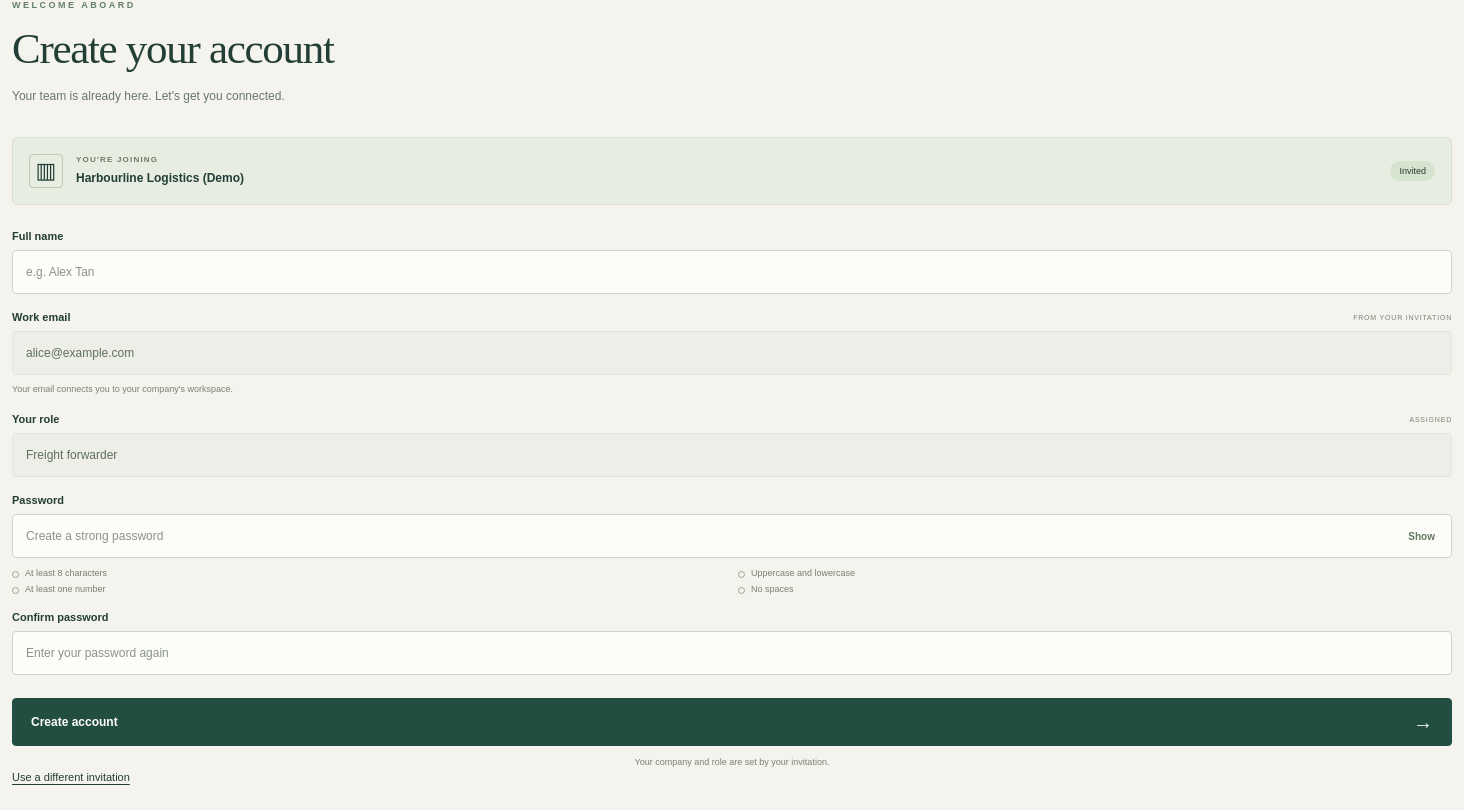
Test: signup form › shows duplicate-account errors without pretending registration succeeded
This screenshot has width=1464, height=810.
In the field labelled "Full name": (732, 272) x1=12 y1=250 x2=1452 y2=294, type "Alice"
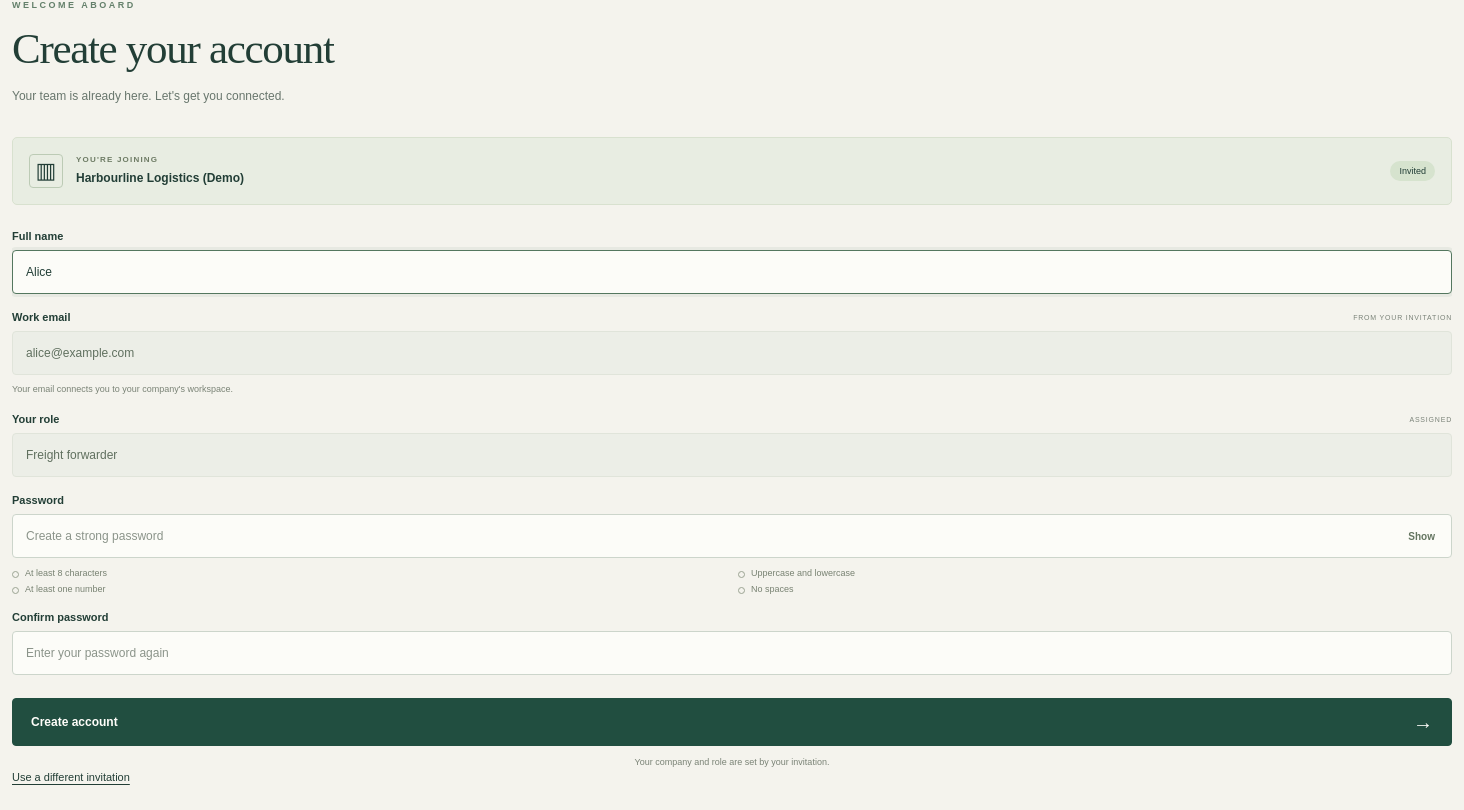
In the password field labelled "Password": (732, 536) x1=12 y1=514 x2=1452 y2=558, type "Example123"
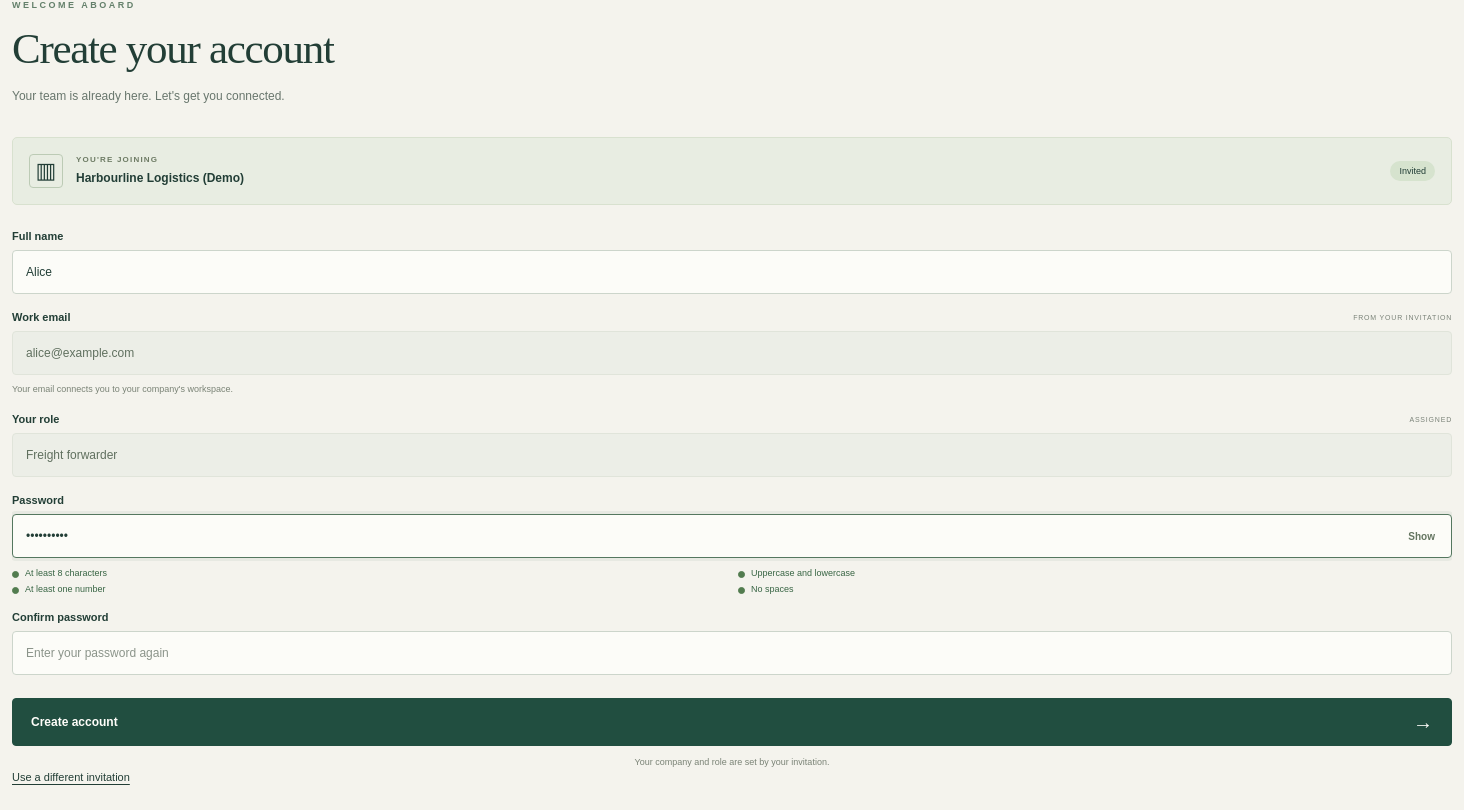
In the password field labelled "Confirm password": (732, 653) x1=12 y1=631 x2=1452 y2=675, type "Example123"
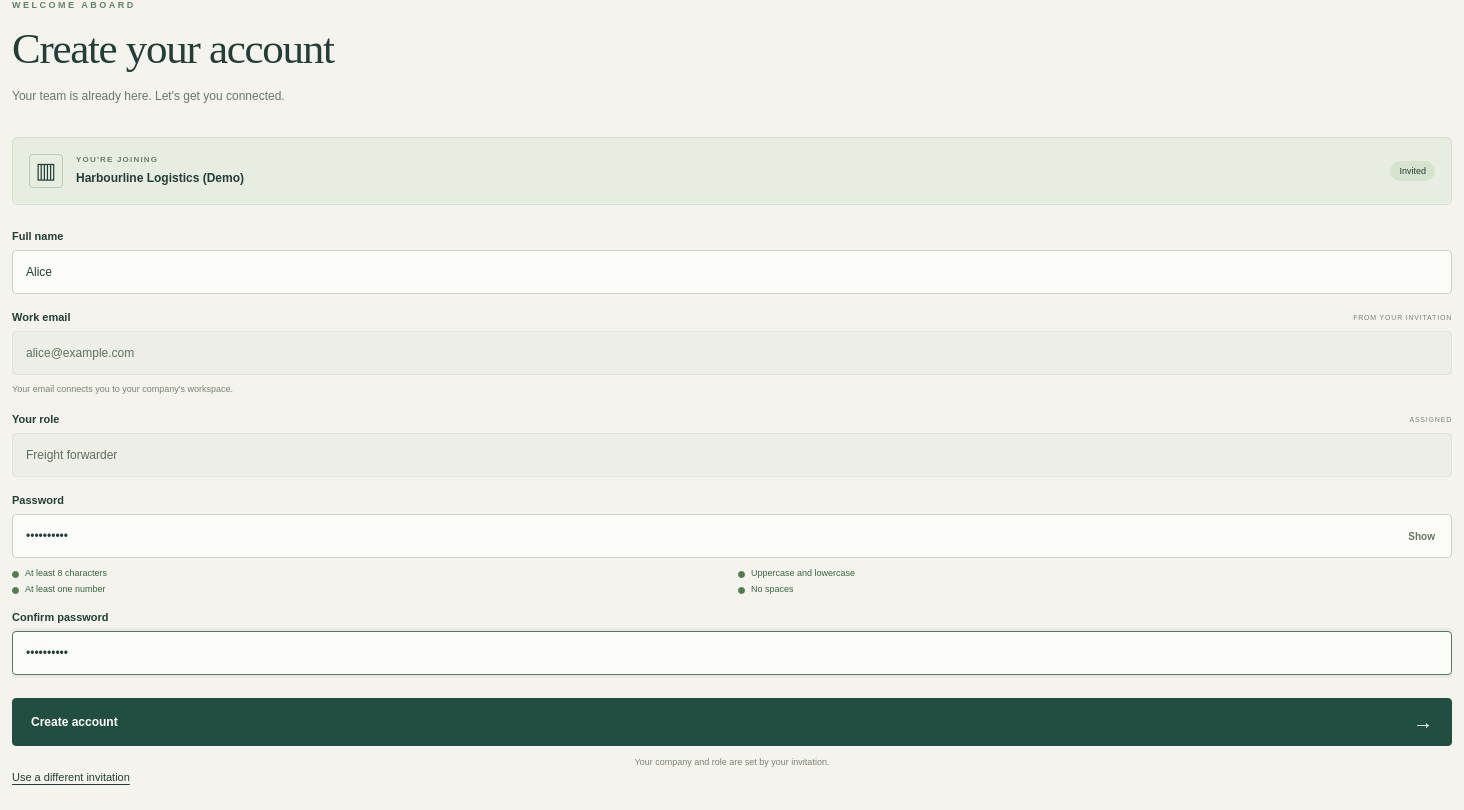
Click the button "Create account →": (74, 722) x1=12 y1=698 x2=1452 y2=746
(page scrolled)
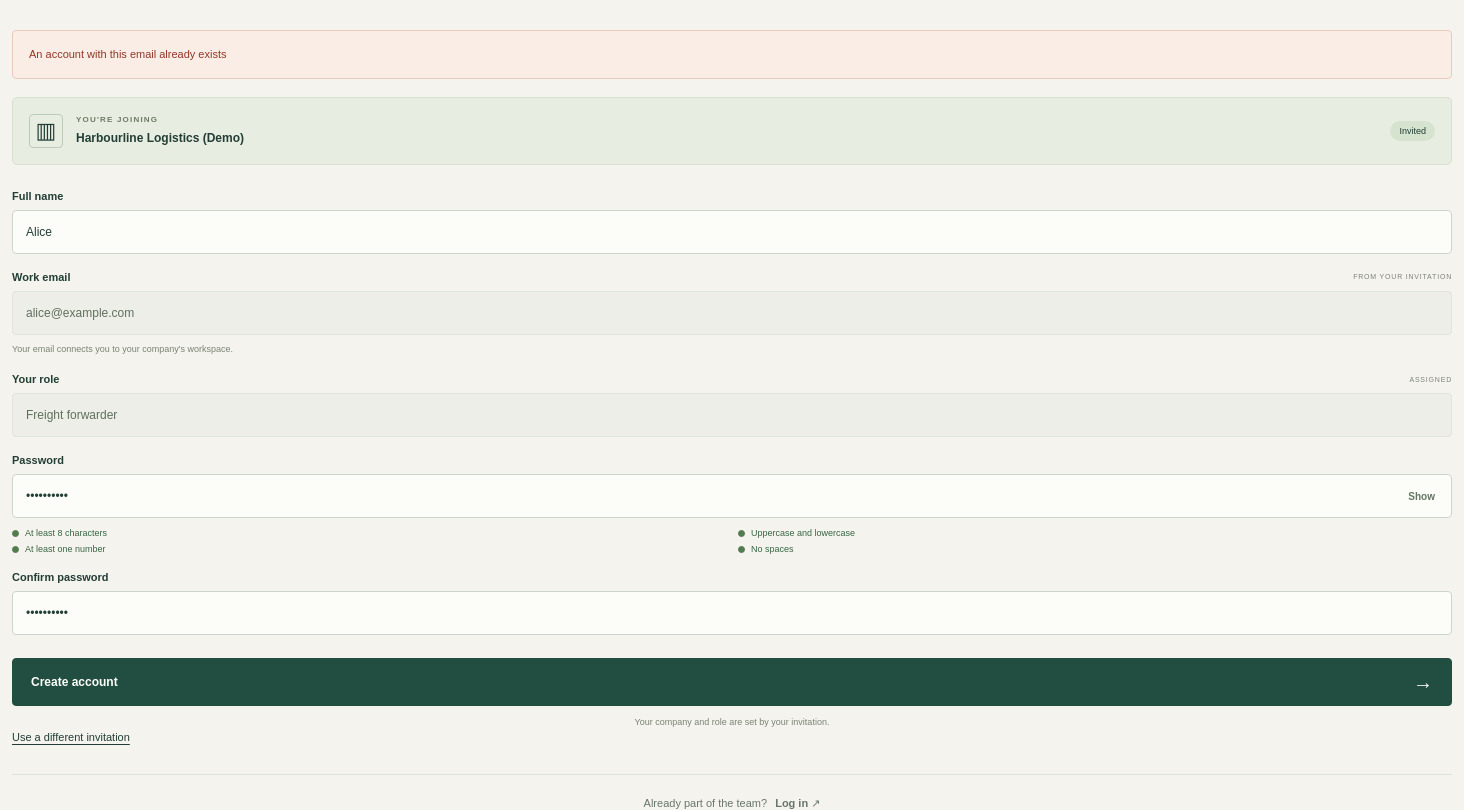
Expected: the button "Create account →" is enabled, x1=12 y1=658 x2=1452 y2=706
Result: the message shows "already exists" at x1=29 y1=48 x2=226 y2=60
